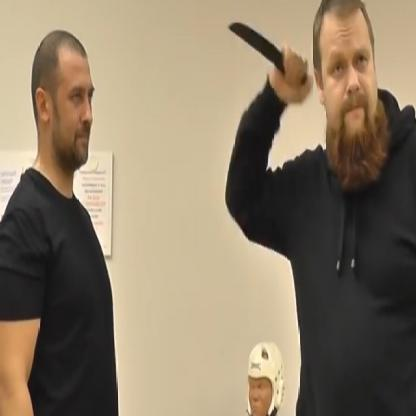knife: (221, 10, 312, 103)
